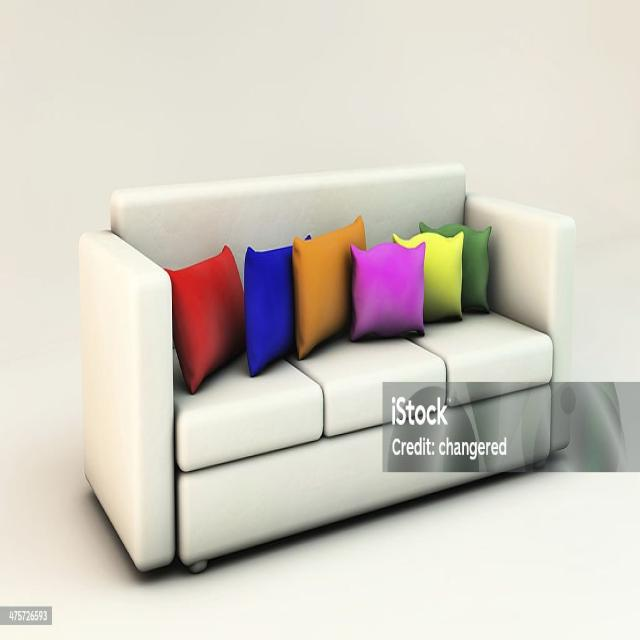back_cushion: (111, 164, 465, 272)
base: (178, 383, 560, 569)
left_arm: (465, 194, 575, 449)
right_arm: (80, 233, 175, 569)
seat_cushion: (175, 314, 551, 470)
stallion-sofa1: (0, 0, 639, 639)
